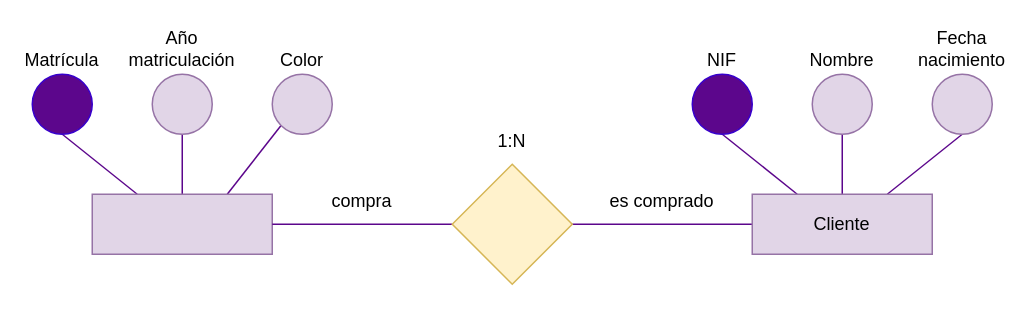
The diagram is 1032 pixels wide and 311 high, and some of its shapes have lost their labels. The shapes that lost their labels are listed below. From the top down, each one's box as (x1, y1, x2, y2) in pixels, then its label:
(91, 193, 272, 254): Coche
(451, 163, 572, 284): coche-conductor
